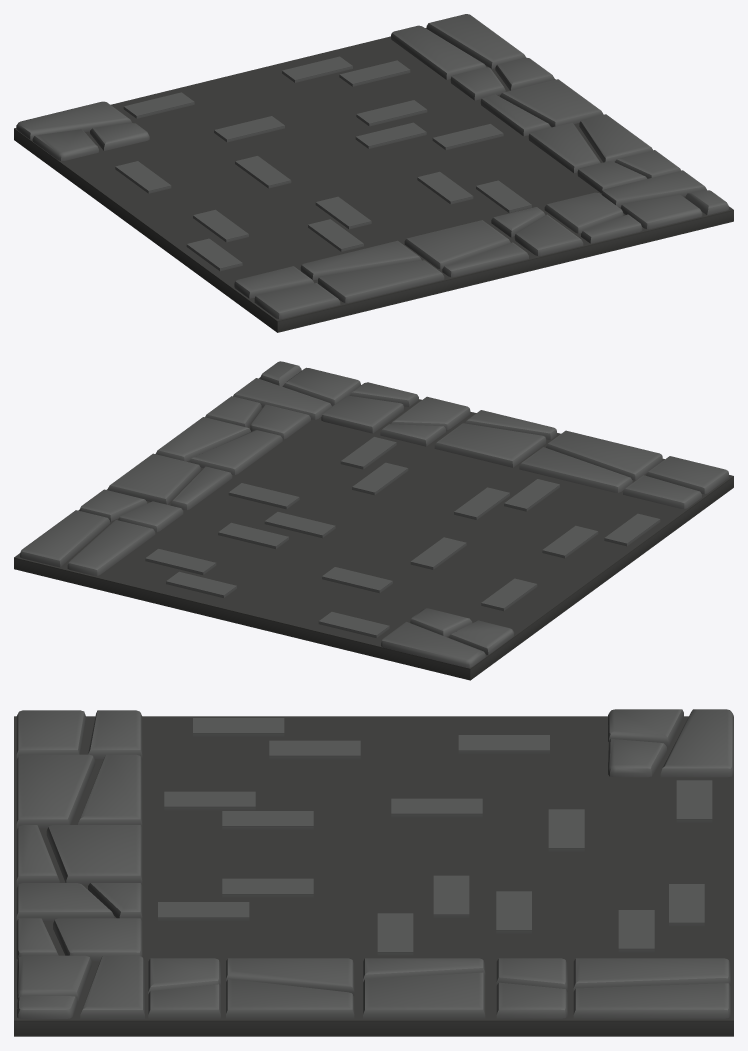
Rendered from x_path_corner.fbx.
3 renders of one model, top to bottom at view 1: azimuth 30°, elevation 25°; view 2: azimuth 150°, elevation 25°; view 3: azimuth 270°, elevation 25°, orthographic. The views are drawn at different scales.
Parts seen in each view (by area): view 1: x_path_corner_baked; view 2: x_path_corner_baked; view 3: x_path_corner_baked.
Part boxes in pixels (x1,y1,x2,y2): x_path_corner_baked: (14, 14, 733, 332); x_path_corner_baked: (14, 361, 733, 680); x_path_corner_baked: (14, 709, 733, 1036).
Bounding box in the file's own units: 2.38 × 0.0946 × 2.38.
